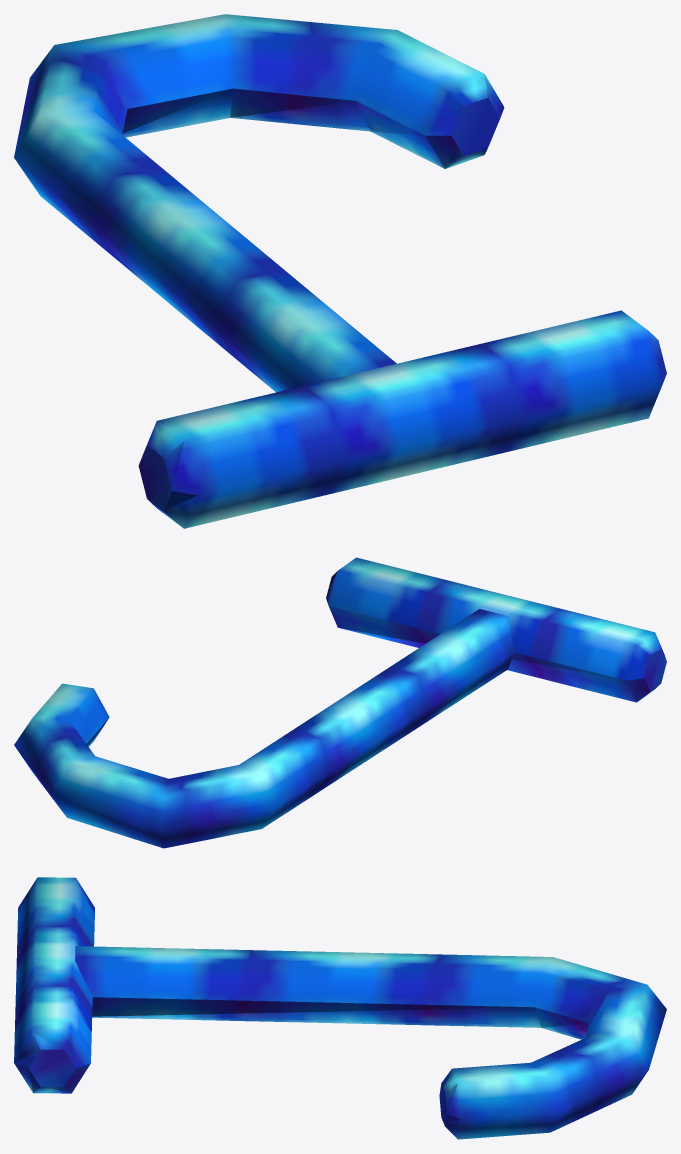
The model's file is furni_0200457.FBX.
The picture shows the model from 3 angles, top to bottom: view 1: azimuth 30°, elevation 25°; view 2: azimuth 150°, elevation 25°; view 3: azimuth 270°, elevation 25°; orthographic projection. The views are drawn at different scales.
Parts seen in each view (by area): view 1: furni_0200457; view 2: furni_0200457; view 3: furni_0200457.
Part boxes in pixels (box(x1,y1,x2,y2)): furni_0200457: box(14, 14, 666, 528); furni_0200457: box(14, 557, 666, 848); furni_0200457: box(14, 877, 666, 1139).
Bounding box in the file's own units: 42.28 × 5.5 × 53.93.
Materials: 1 (1 with a texture image).
